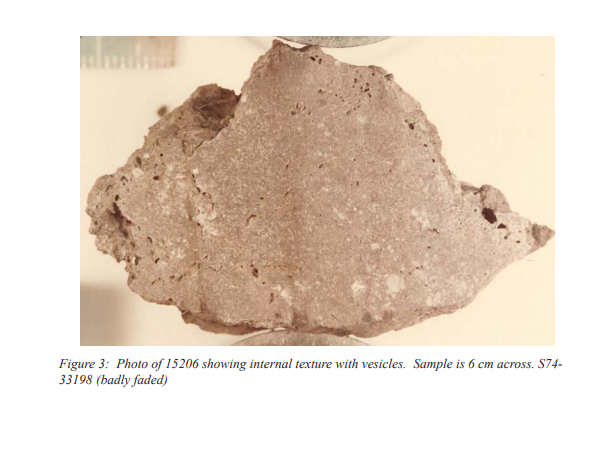Breccia: (80, 38, 552, 353)
